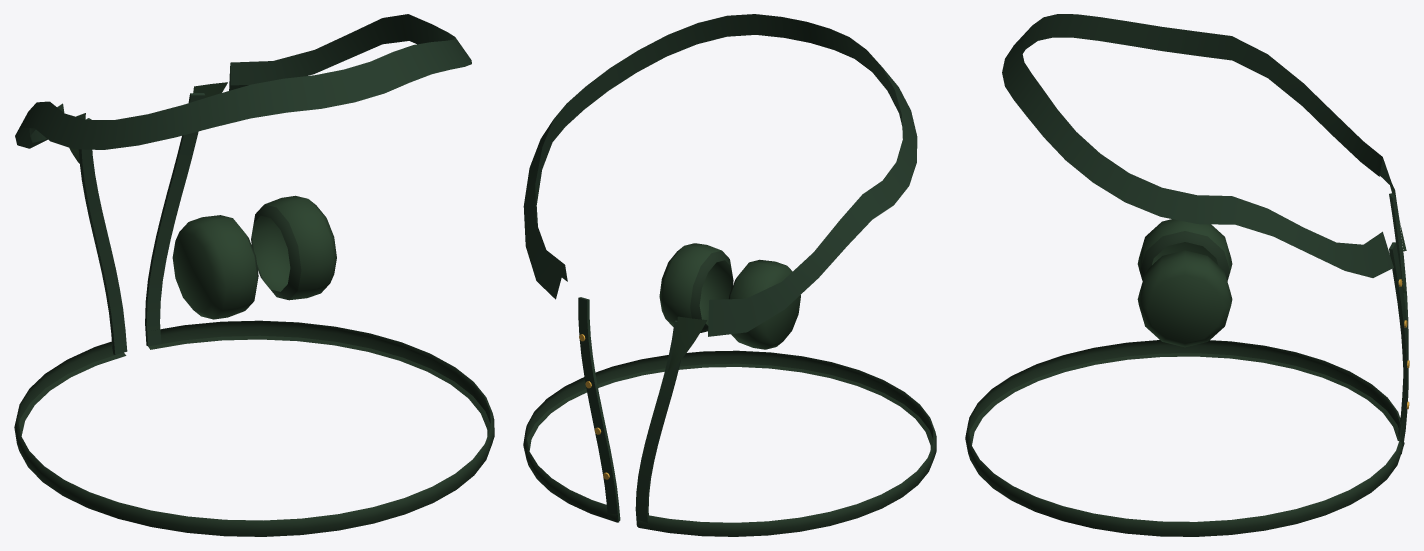
File: cos_u_stargardener.glb
The picture shows the model from 3 angles, left to right: view 1: azimuth 30°, elevation 25°; view 2: azimuth 150°, elevation 25°; view 3: azimuth 270°, elevation 25°; orthographic projection. The views are drawn at different scales.
Parts seen in each view (by area): view 1: u_stargardener, u_stargardener_cuff_R, u_stargardener_cuff_L; view 2: u_stargardener, u_stargardener_cuff_L, u_stargardener_cuff_R; view 3: u_stargardener, u_stargardener_cuff_L, u_stargardener_cuff_R.
Part boxes in pixels (x1,y1,x2,y2): u_stargardener: [14, 14, 494, 536]; u_stargardener_cuff_R: [172, 215, 258, 319]; u_stargardener_cuff_L: [251, 195, 336, 300]; u_stargardener: [523, 14, 936, 536]; u_stargardener_cuff_L: [659, 243, 733, 332]; u_stargardener_cuff_R: [728, 259, 800, 349]; u_stargardener: [965, 14, 1408, 536]; u_stargardener_cuff_L: [1137, 250, 1232, 347]; u_stargardener_cuff_R: [1137, 219, 1232, 281].
Size of the model in its own units: 1.05 by 1.04 by 1.06.
